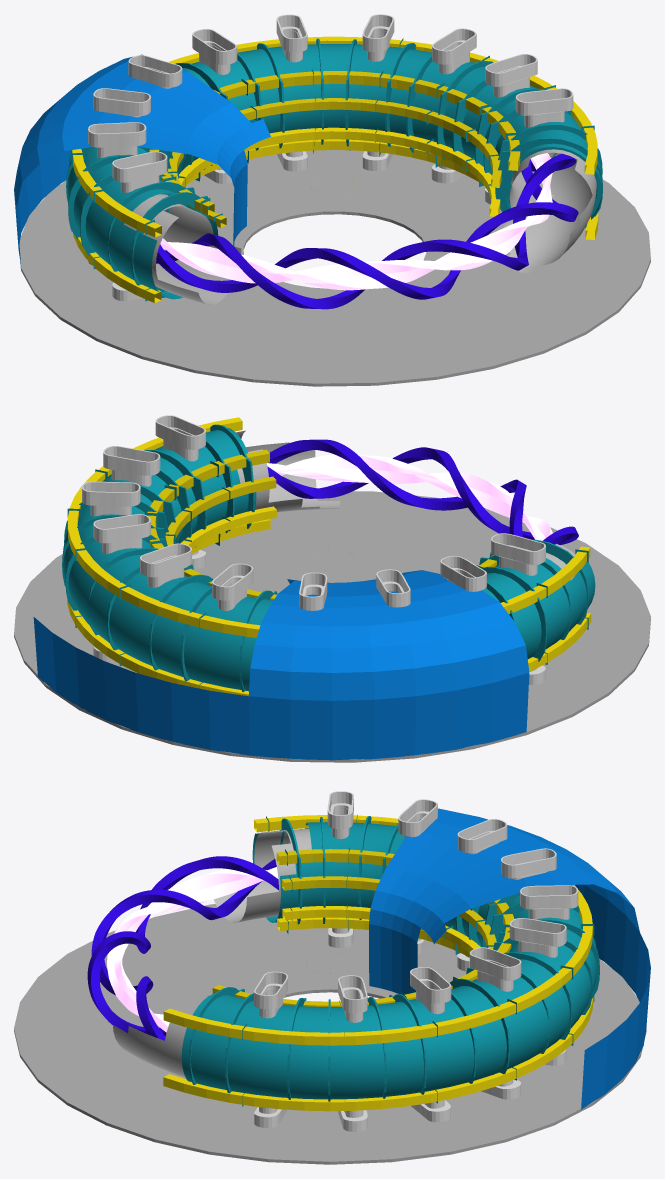
Rendered from LHD0813_02.glb.
The picture shows the model from 3 angles, top to bottom: view 1: azimuth 30°, elevation 25°; view 2: azimuth 150°, elevation 25°; view 3: azimuth 270°, elevation 25°; orthographic projection.
Parts seen in each view (by area): view 1: Cylinder, Circle_VacuumVesselOutside, Torus.002, Circle_VacuumVesselInside, Plane, helical_Coil001.001, helical_Coil001, Plane_PoloidalCoilUpIn.001, Plane_PoloidalCoilUpOut, Plane_PoloidalCoilUpIn.002, Plane_PoloidalCoilDownIn, Cylinder.011 (+19 smaller); view 2: Torus.002, Cylinder, Circle_VacuumVesselOutside, Plane_PoloidalCoilUpOut, Plane, helical_Coil001.001, helical_Coil001, Plane_PoloidalCoilDownOut, Circle_VacuumVesselInside, Plane_PoloidalCoilUpIn.001, Cylinder.015, Cylinder.016 (+19 smaller); view 3: Cylinder, Circle_VacuumVesselOutside, Torus.002, Plane_PoloidalCoilUpOut, Plane_PoloidalCoilDownOut, Circle_VacuumVesselInside, Plane, helical_Coil001, helical_Coil001.001, Plane_PoloidalCoilUpIn.001, Cylinder.018, Cylinder.017 (+22 smaller).
Part boxes in pixels (x1=…): Cylinder: x1=19, y1=150, x2=650, y2=386; Circle_VacuumVesselOutside: x1=67, y1=44, x2=602, y2=299; Torus.002: x1=14, y1=54, x2=270, y2=266; Circle_VacuumVesselInside: x1=124, y1=149, x2=596, y2=305; Plane: x1=160, y1=153, x2=552, y2=290; helical_Coil001.001: x1=156, y1=160, x2=578, y2=299; helical_Coil001: x1=156, y1=153, x2=576, y2=309; Plane_PoloidalCoilUpIn.001: x1=149, y1=71, x2=520, y2=215; Plane_PoloidalCoilUpOut: x1=72, y1=36, x2=597, y2=237; Plane_PoloidalCoilUpIn.002: x1=168, y1=98, x2=501, y2=227; Plane_PoloidalCoilDownIn: x1=179, y1=127, x2=500, y2=216; Cylinder.011: x1=495, y1=124, x2=602, y2=227; Torus.002: x1=33, y1=570, x2=529, y2=760; Cylinder: x1=14, y1=491, x2=650, y2=762; Circle_VacuumVesselOutside: x1=63, y1=428, x2=595, y2=691; Plane_PoloidalCoilUpOut: x1=67, y1=417, x2=590, y2=637; Plane: x1=267, y1=454, x2=552, y2=540; helical_Coil001.001: x1=268, y1=439, x2=526, y2=537; helical_Coil001: x1=267, y1=447, x2=578, y2=544; Plane_PoloidalCoilDownOut: x1=67, y1=549, x2=591, y2=696; Circle_VacuumVesselInside: x1=236, y1=430, x2=575, y2=580; Plane_PoloidalCoilUpIn.001: x1=147, y1=449, x2=496, y2=600; Cylinder.015: x1=82, y1=481, x2=140, y2=516; Cylinder.016: x1=93, y1=514, x2=150, y2=554; Cylinder: x1=14, y1=904, x2=646, y2=1164; Circle_VacuumVesselOutside: x1=181, y1=822, x2=596, y2=1099; Torus.002: x1=369, y1=808, x2=650, y2=1109; Plane_PoloidalCoilUpOut: x1=163, y1=815, x2=592, y2=1045; Plane_PoloidalCoilDownOut: x1=163, y1=953, x2=593, y2=1111; Circle_VacuumVesselInside: x1=113, y1=828, x2=311, y2=1077; Plane: x1=107, y1=867, x2=278, y2=1032; helical_Coil001: x1=87, y1=856, x2=278, y2=1035; helical_Coil001.001: x1=91, y1=859, x2=276, y2=1040; Plane_PoloidalCoilUpIn.001: x1=212, y1=849, x2=514, y2=1006; Cylinder.018: x1=520, y1=885, x2=578, y2=919; Cylinder.017: x1=509, y1=918, x2=566, y2=957.
Bounding box in the file's own units: 13 × 3.06 × 13.09.
